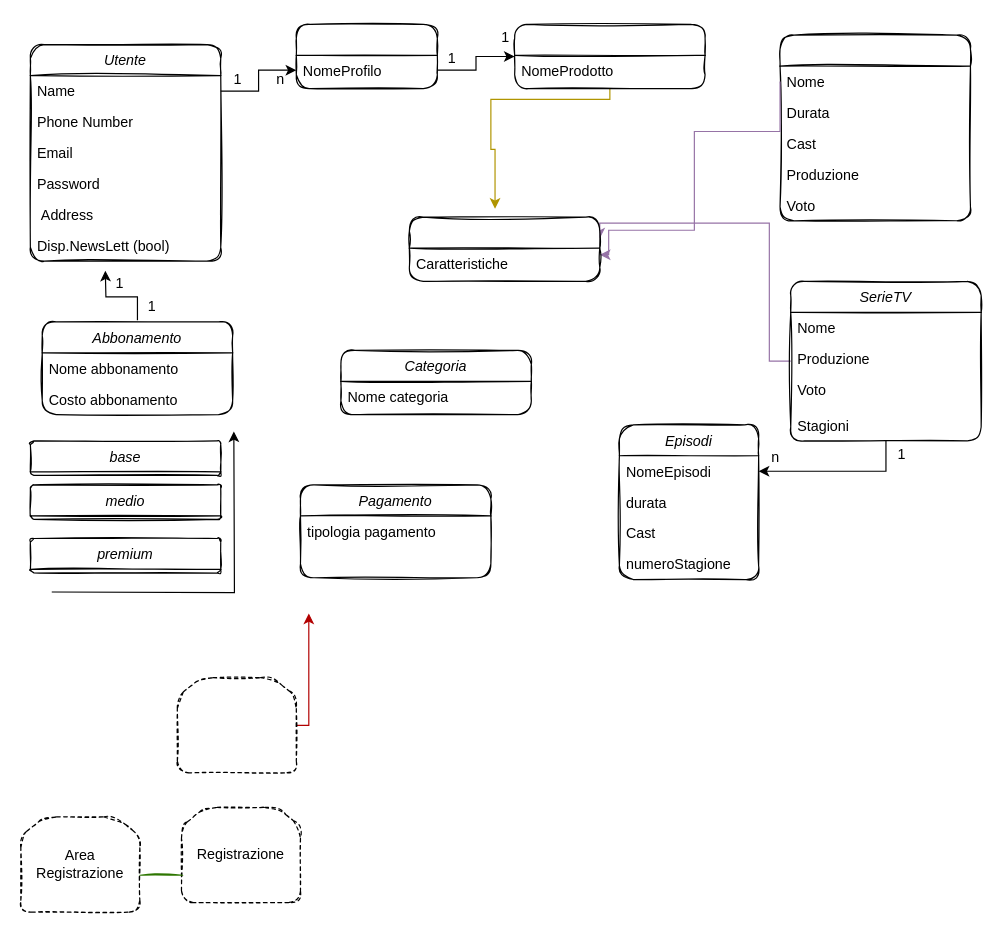
The diagram is 1002 pixels wide and 933 high, and some of its shapes have lost their labels. Each missing label, with the box of its shape:
Film: (779, 34, 970, 221)
ListaProdotto: (513, 23, 705, 89)
Login: (176, 677, 296, 773)
Prodotto: (408, 216, 600, 281)
Profili: (295, 23, 437, 89)
